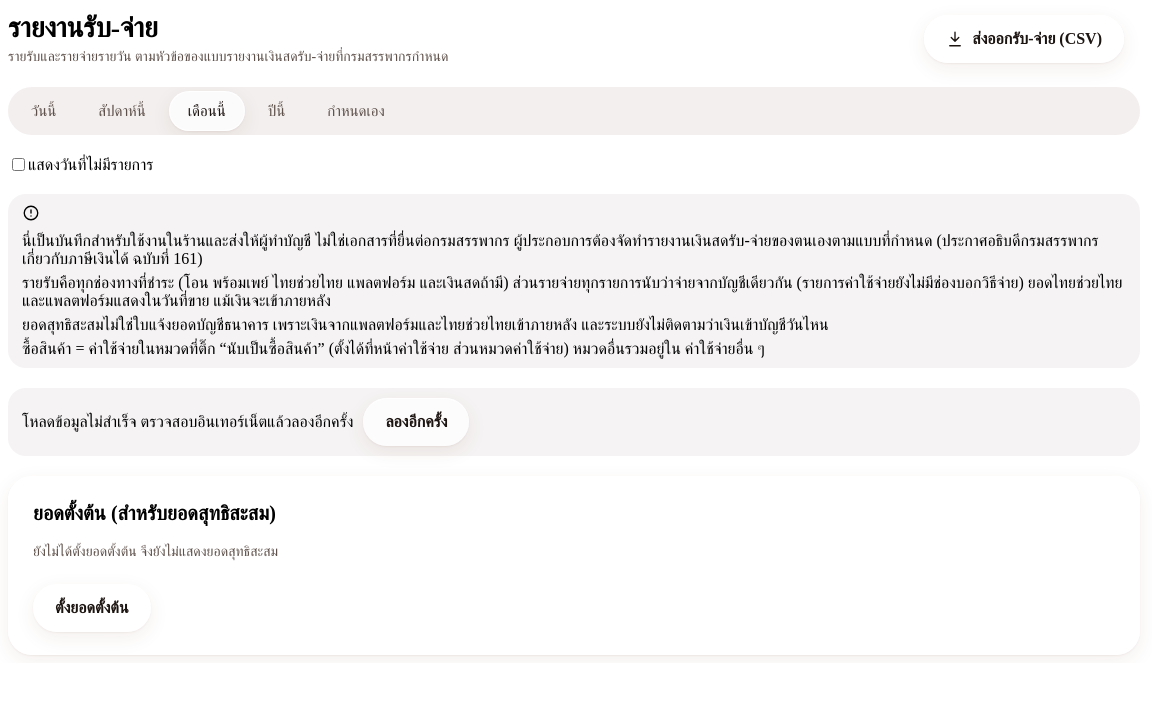
Test: the figures › a failed read is told, with a retry that reads again
Click the button "ลองอีกครั้ง": (416, 422) [363, 398, 470, 446]
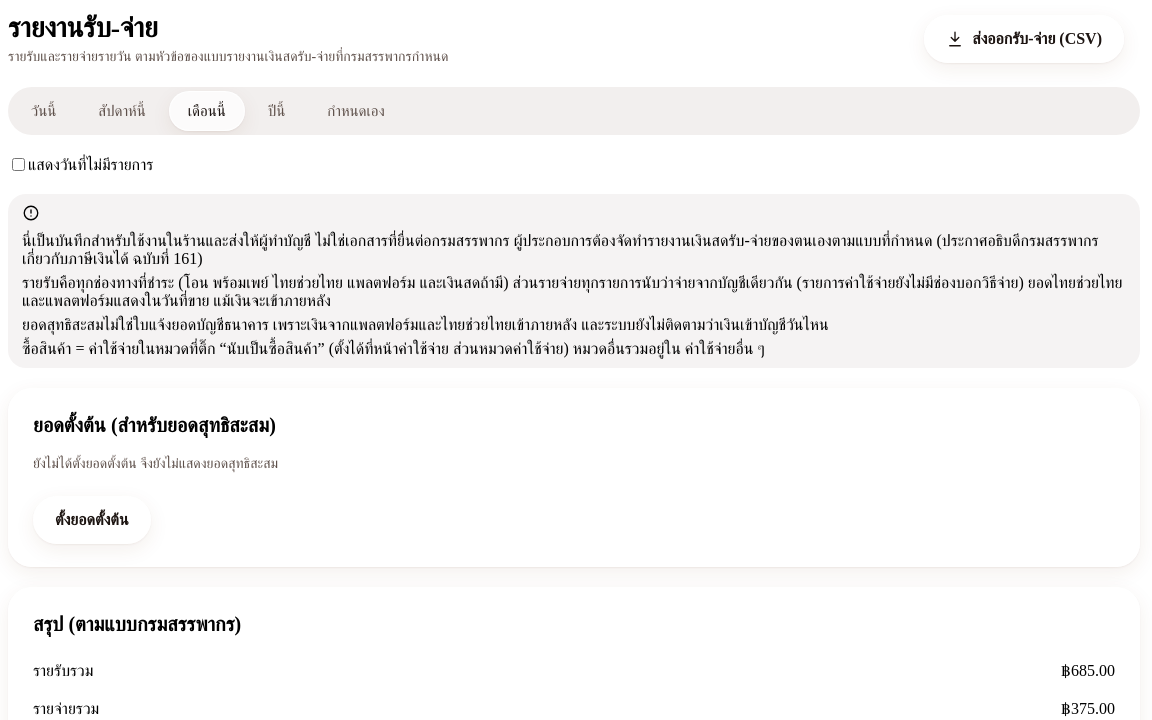
Expected: the text "สรุป (ตามแบบกรมสรรพากร)" is shown, [33, 613, 241, 635]
